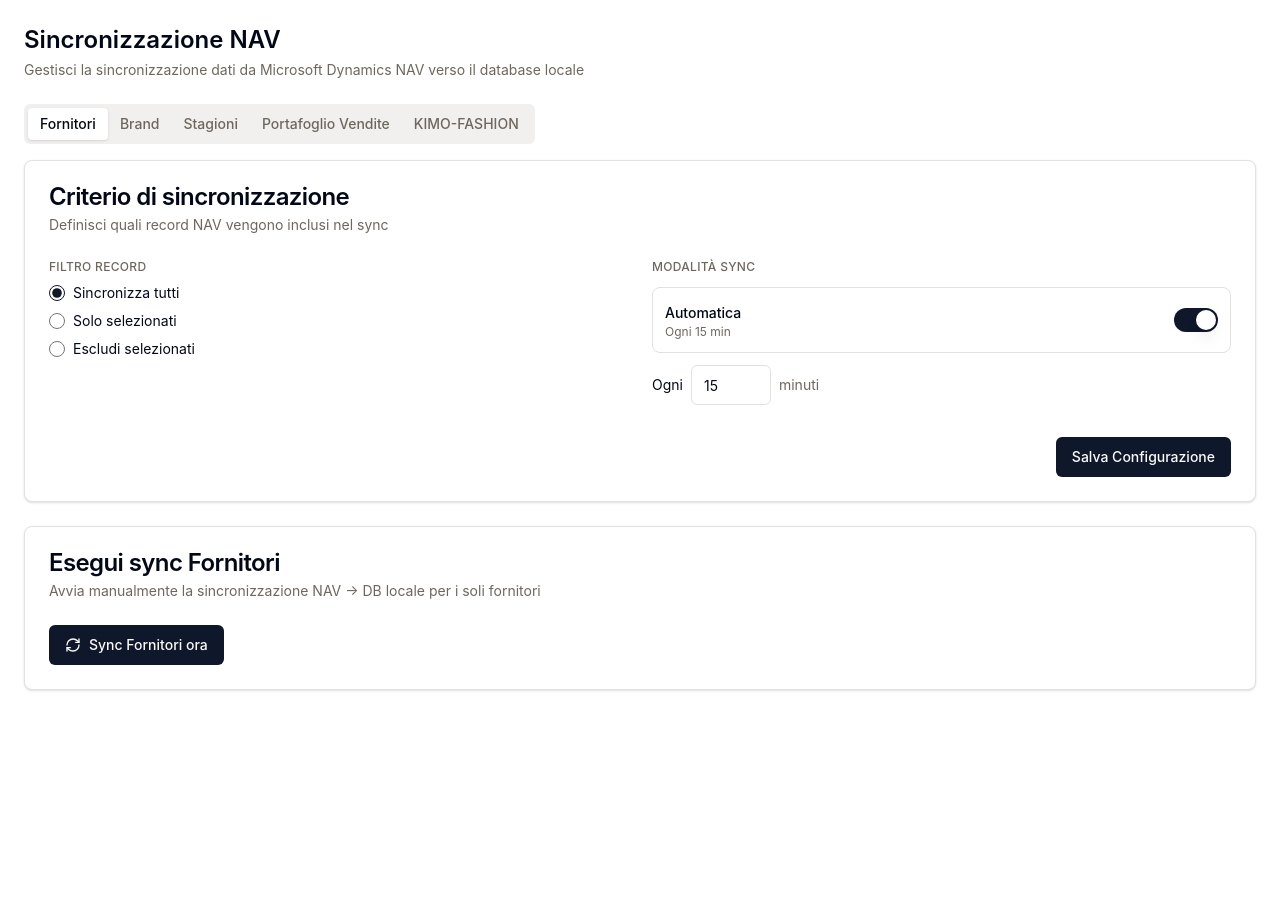
NAV sync "Portafoglio Vendite": sales:read shows the replica state, without sales:sync the manual sync is disabled
Click the tab "Portafoglio Vendite" at (326, 124), box top-left (250, 108), bottom-right (402, 140)
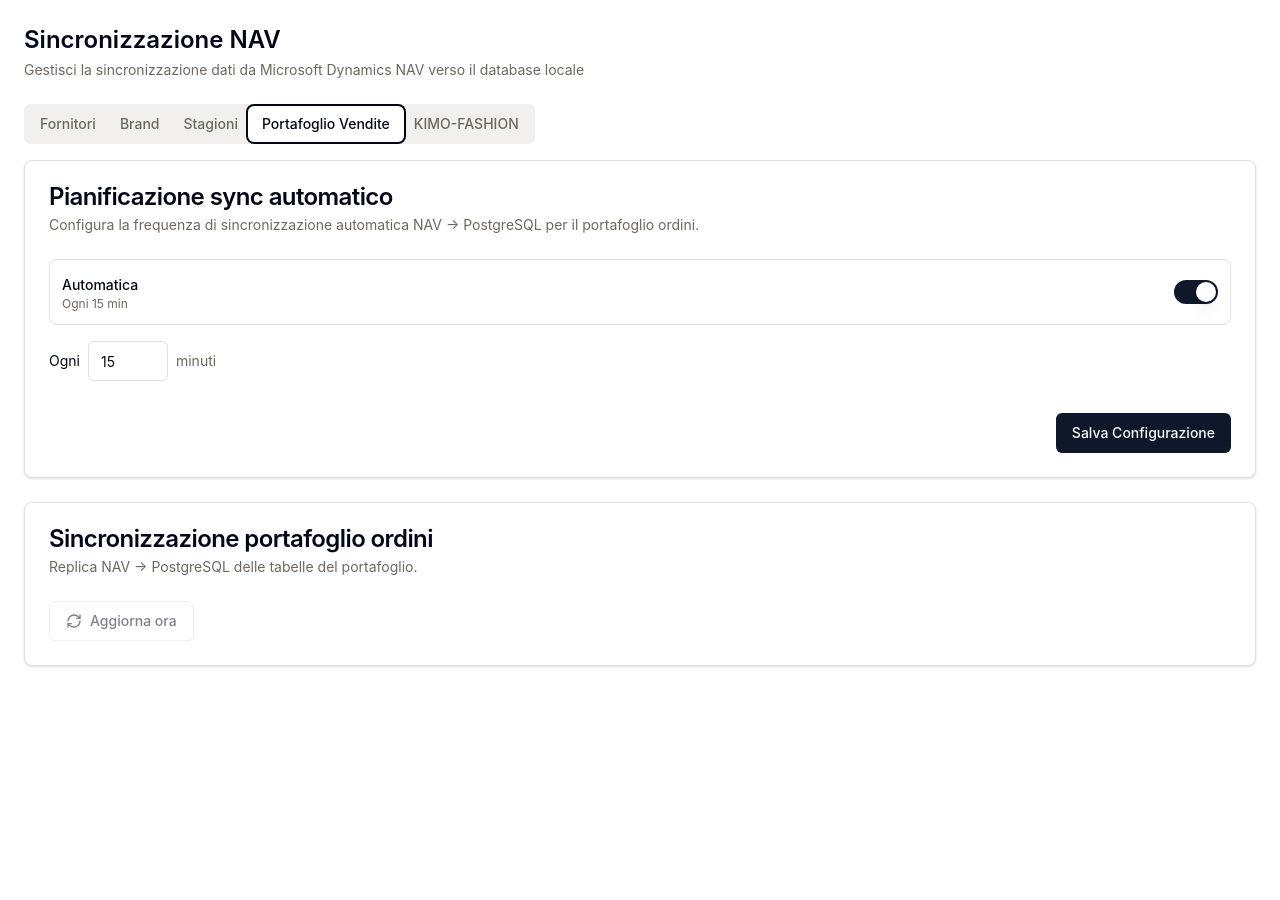
Expected: the button "Aggiorna ora" is disabled, top-left (49, 601), bottom-right (194, 641)
